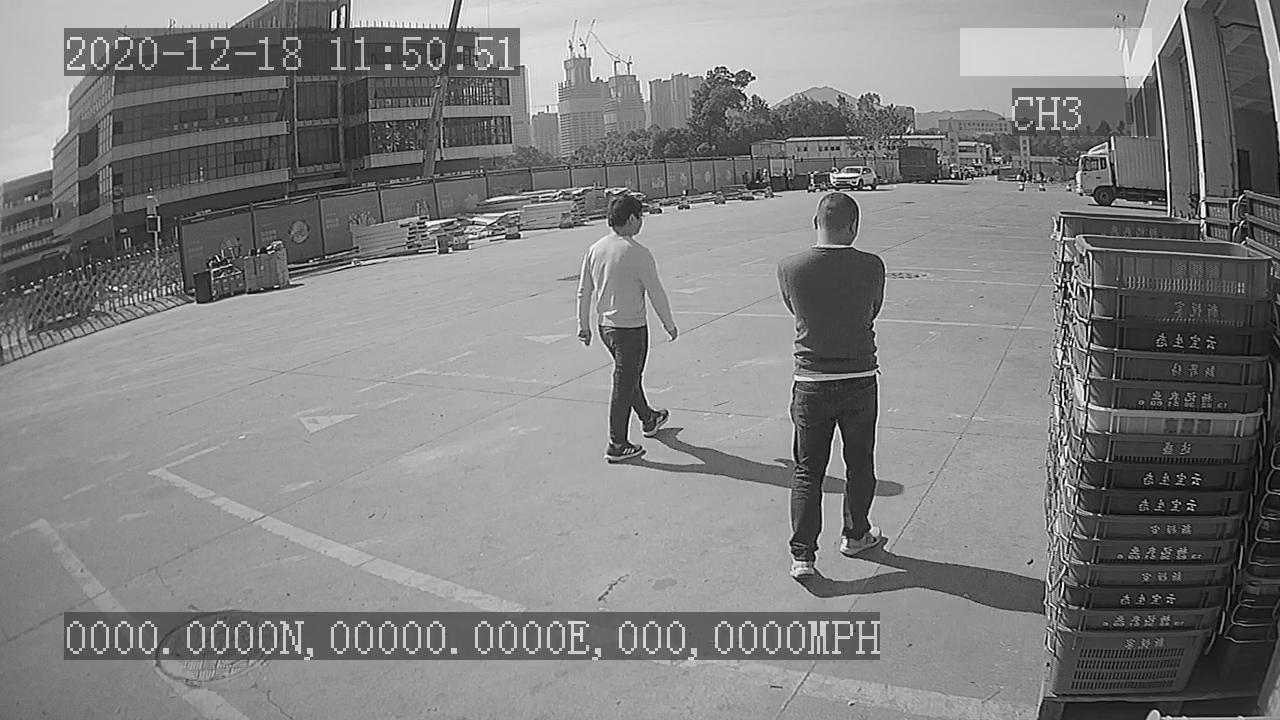person: (770, 186, 892, 588), (574, 190, 683, 465)
